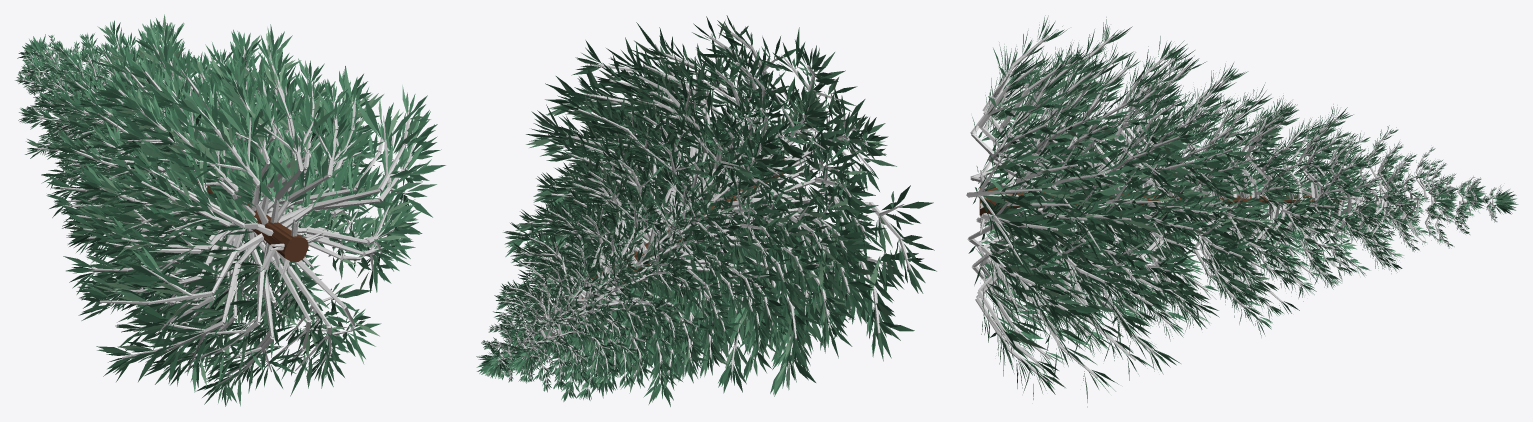
Rendered from Tree_Pine_Windbent.fbx.
3 views of the same model, side by side, from view 1: azimuth 30°, elevation 25°; view 2: azimuth 150°, elevation 25°; view 3: azimuth 270°, elevation 25° (orthographic). The views are drawn at different scales.
Visible parts, largest first — view 1: Tree_Pine_Windbent_LOD0_Foliage, Tree_Pine_Windbent_LOD1_Foliage, Tree_Pine_Windbent_LOD0_Branches, Tree_Pine_Windbent_LOD1_Branches, Tree_Pine_Windbent_LOD2_Foliage, Tree_Pine_Windbent_LOD2_Branches, Tree_Pine_Windbent_LOD0_Wood, Tree_Pine_Windbent_LOD1_Wood; view 2: Tree_Pine_Windbent_LOD0_Foliage, Tree_Pine_Windbent_LOD1_Foliage, Tree_Pine_Windbent_LOD0_Branches, Tree_Pine_Windbent_LOD1_Branches, Tree_Pine_Windbent_LOD2_Foliage, Tree_Pine_Windbent_LOD2_Branches; view 3: Tree_Pine_Windbent_LOD0_Foliage, Tree_Pine_Windbent_LOD1_Foliage, Tree_Pine_Windbent_LOD0_Branches, Tree_Pine_Windbent_LOD1_Branches, Tree_Pine_Windbent_LOD2_Branches, Tree_Pine_Windbent_LOD2_Foliage.
Part boxes in pixels (x1,y1,x2,y2): Tree_Pine_Windbent_LOD0_Foliage: (17, 14, 441, 406); Tree_Pine_Windbent_LOD1_Foliage: (15, 22, 445, 381); Tree_Pine_Windbent_LOD0_Branches: (22, 30, 416, 386); Tree_Pine_Windbent_LOD1_Branches: (20, 33, 412, 360); Tree_Pine_Windbent_LOD2_Foliage: (47, 41, 403, 399); Tree_Pine_Windbent_LOD2_Branches: (60, 54, 383, 379); Tree_Pine_Windbent_LOD0_Wood: (247, 203, 308, 261); Tree_Pine_Windbent_LOD1_Wood: (189, 180, 307, 261); Tree_Pine_Windbent_LOD0_Foliage: (476, 27, 918, 401); Tree_Pine_Windbent_LOD1_Foliage: (505, 15, 936, 406); Tree_Pine_Windbent_LOD0_Branches: (483, 53, 893, 393); Tree_Pine_Windbent_LOD1_Branches: (510, 32, 910, 390); Tree_Pine_Windbent_LOD2_Foliage: (493, 16, 886, 393); Tree_Pine_Windbent_LOD2_Branches: (500, 36, 866, 378); Tree_Pine_Windbent_LOD0_Foliage: (980, 15, 1518, 399); Tree_Pine_Windbent_LOD1_Foliage: (968, 47, 1486, 407); Tree_Pine_Windbent_LOD0_Branches: (971, 35, 1495, 381); Tree_Pine_Windbent_LOD1_Branches: (966, 58, 1473, 378); Tree_Pine_Windbent_LOD2_Branches: (970, 36, 1424, 368); Tree_Pine_Windbent_LOD2_Foliage: (972, 17, 1457, 392).
Bounding box in the file's own units: 1091 × 968 × 1452.
